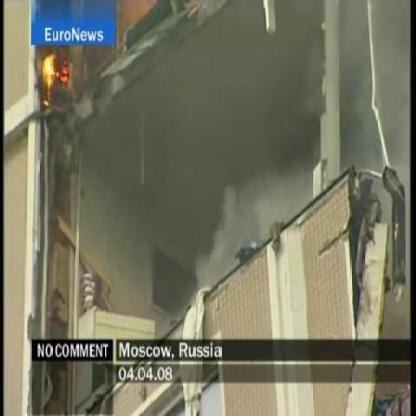fire: (41, 45, 73, 106)
